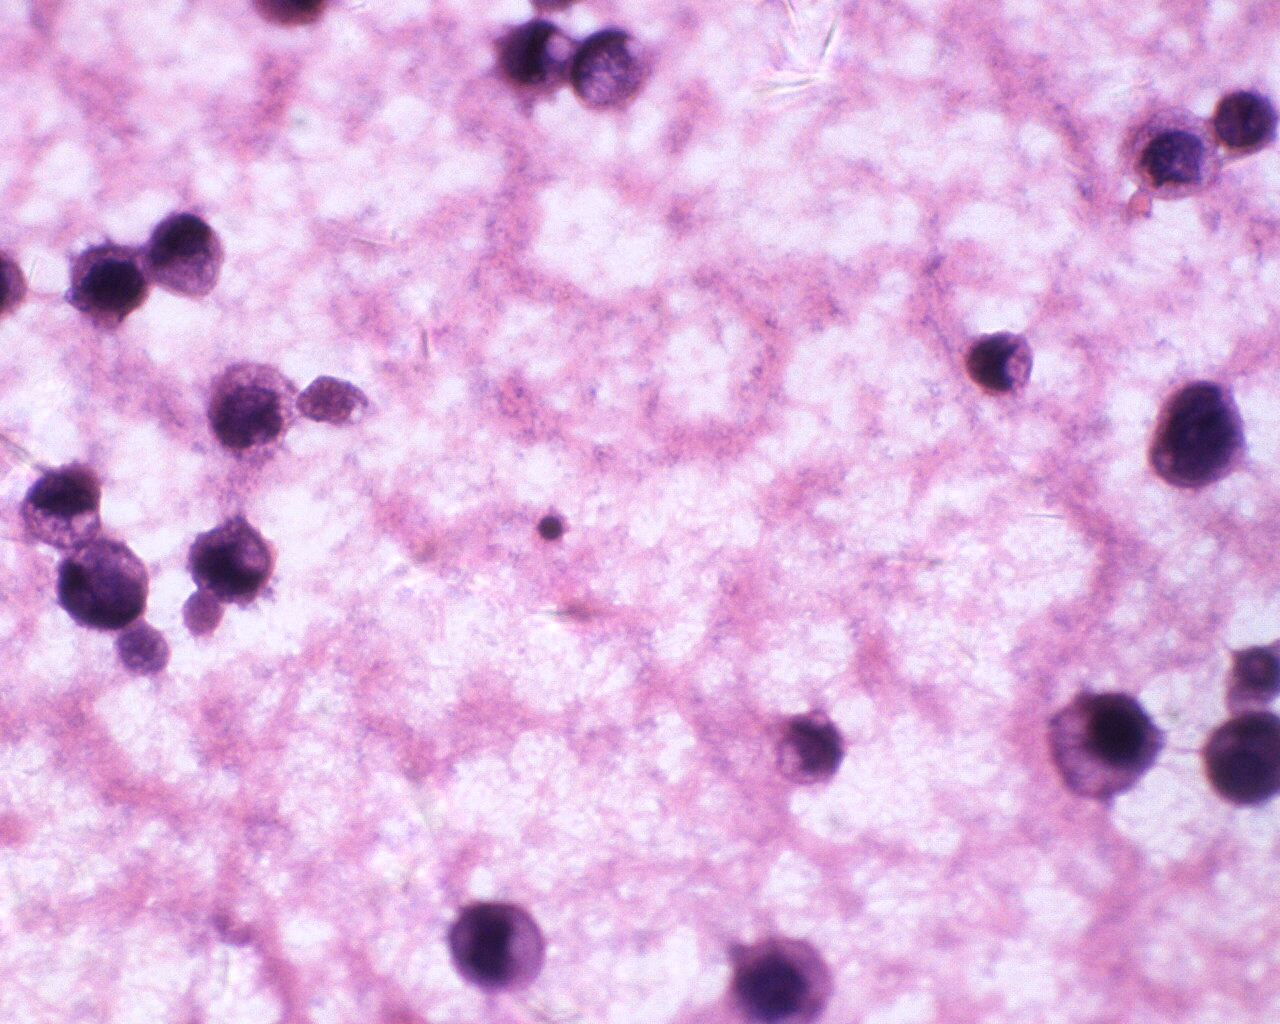ab: (1044, 682, 1170, 809), (1144, 373, 1254, 494), (449, 895, 551, 1000), (54, 534, 153, 633), (199, 355, 297, 453), (16, 464, 111, 554), (185, 515, 276, 608), (145, 207, 233, 301), (63, 239, 149, 327), (962, 323, 1038, 400), (1209, 84, 1280, 163)
